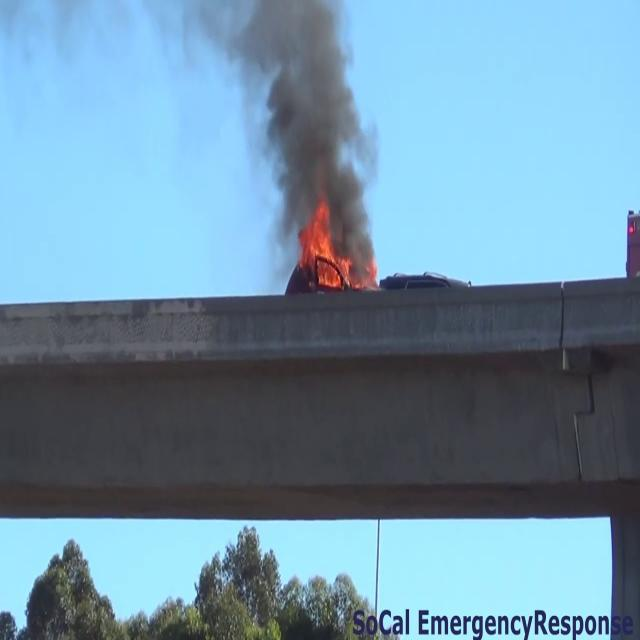Fire: (303, 204, 353, 290)
Smoke: (190, 1, 380, 250)
